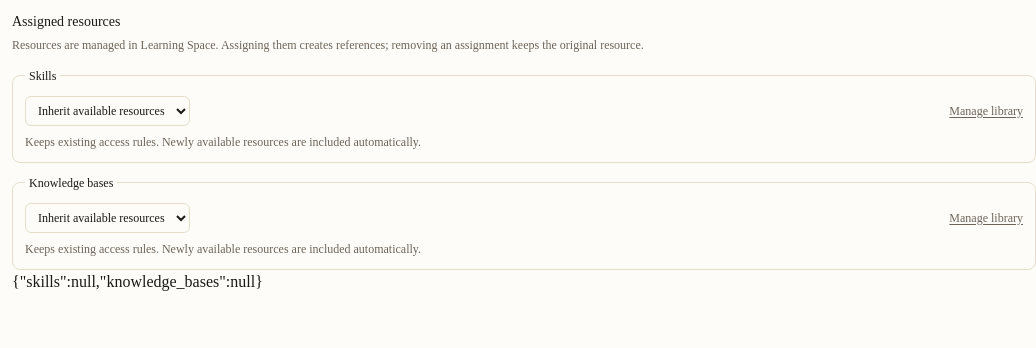
Test: preserves inherited access and supports an explicit empty selection per resource type
Check: the text with test id "policy" shows "\"skills\":null", box [12,272,263,290]
Step 1. Select "Only selected resources" in the dropdown named "Skills assignment mode" → [108, 110], box [25,96,190,126]
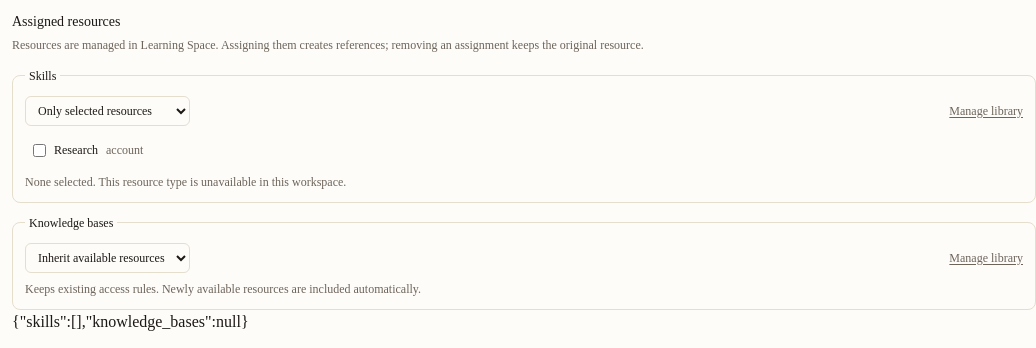
Check: the text with test id "policy" shows "\"skills\":[]", box [12,312,249,330]
Step 2. Click the checkbox labelled "Research" → [40, 150], box [33,144,46,156]
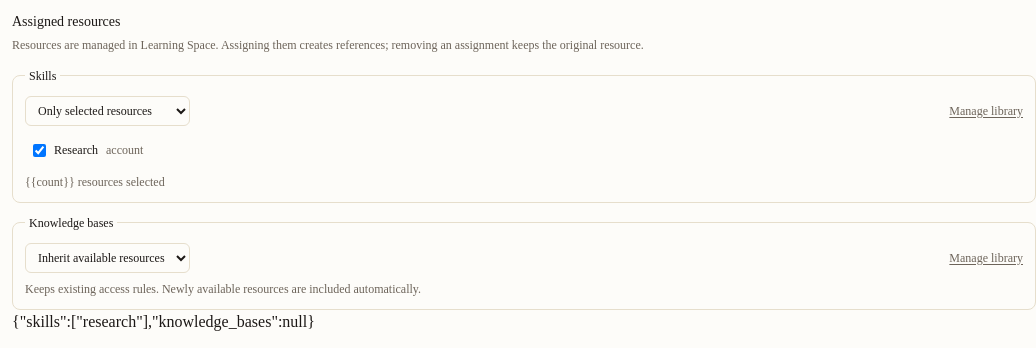
Check: the text with test id "policy" shows "\"skills\":[\"research\"]", box [12,312,315,330]
Step 3. Select "Inherit available resources" in the dropdown named "Skills assignment mode" → [108, 110], box [25,96,190,126]
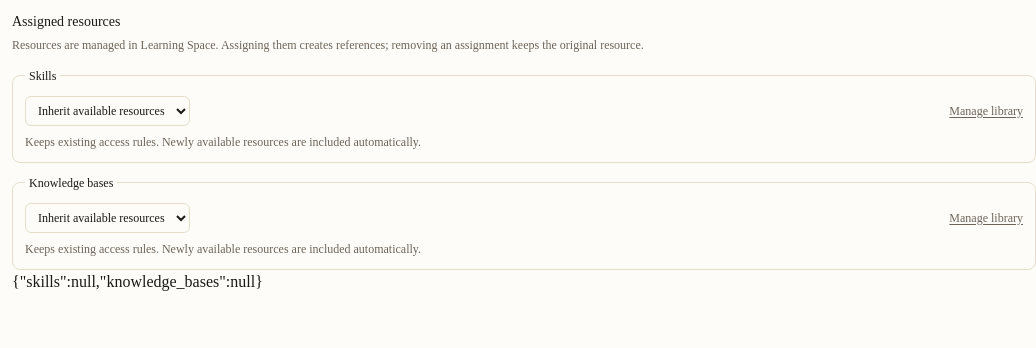
Check: the text with test id "policy" shows "\"skills\":null", box [12,272,263,290]
